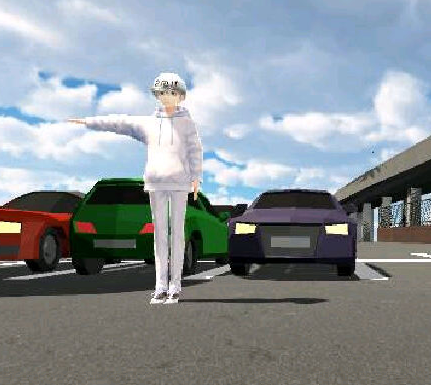singleP_left: (65, 68, 203, 310)
